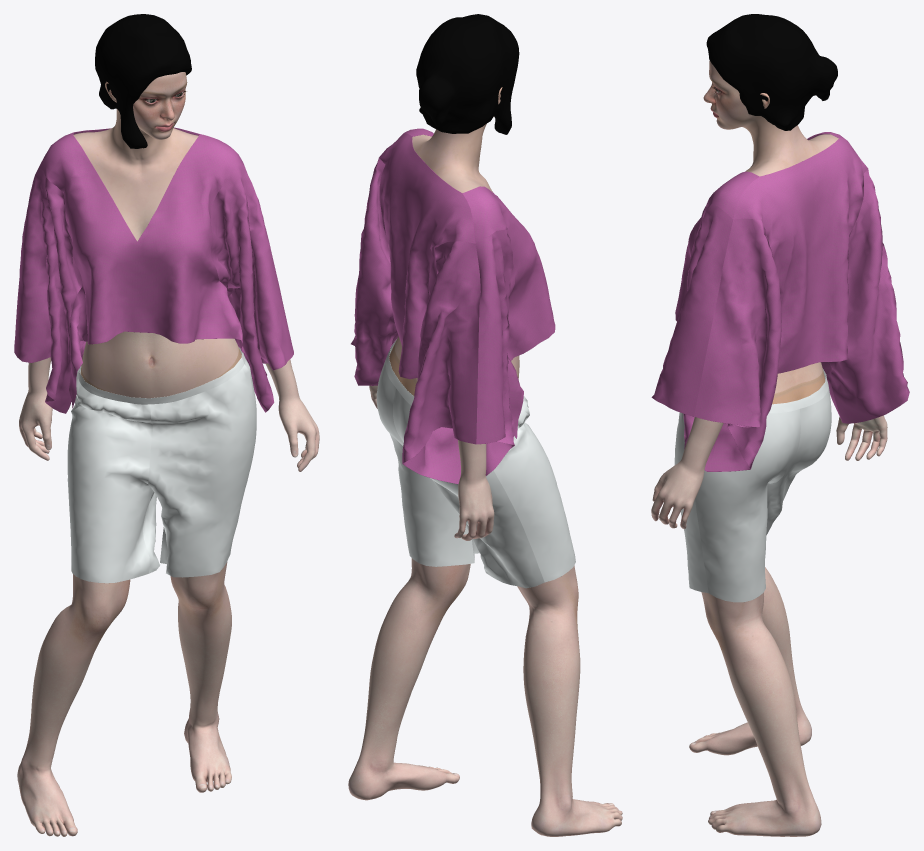
File: Custom_View_3__FV2_05.obj
The picture shows the model from 3 angles, left to right: view 1: azimuth 30°, elevation 25°; view 2: azimuth 150°, elevation 25°; view 3: azimuth 270°, elevation 25°; orthographic projection. The views are drawn at different scales.
Size of the model in its own units: 612 by 1724 by 515.
